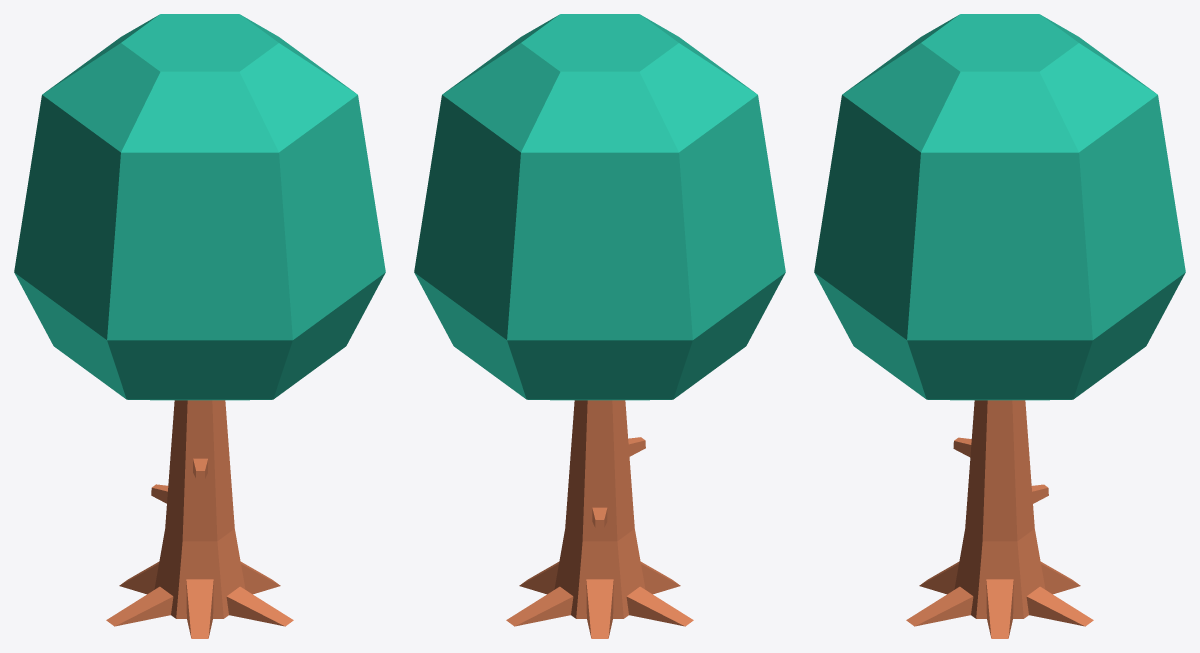
The model's file is tree_oak.dae.
3 views of the same model, side by side, from view 1: azimuth 30°, elevation 25°; view 2: azimuth 150°, elevation 25°; view 3: azimuth 270°, elevation 25° (orthographic).
Visible parts, largest first — view 1: tree_oak; view 2: tree_oak; view 3: tree_oak.
Part boxes in pixels (x1=…): tree_oak: x1=14, y1=14, x2=385, y2=638; tree_oak: x1=414, y1=14, x2=785, y2=638; tree_oak: x1=814, y1=14, x2=1185, y2=638.
Size of the model in its own units: 0.6406 by 1.23 by 0.7396.
